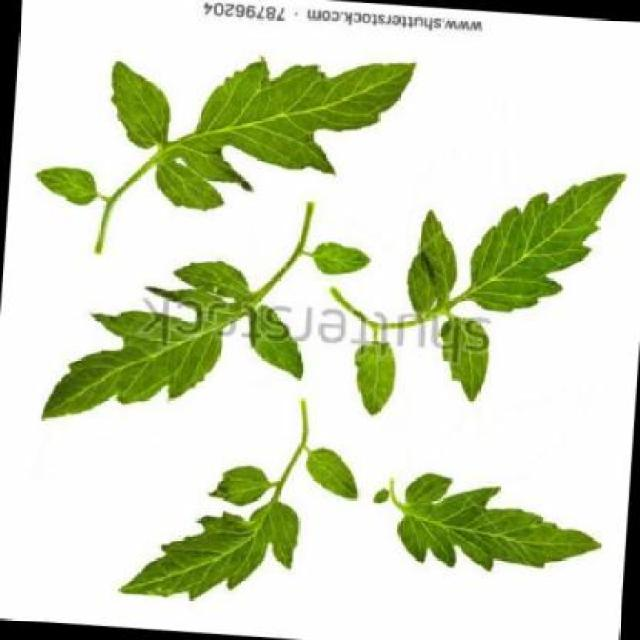Healthy Leaf: (8, 12, 424, 238), (337, 151, 625, 438), (49, 198, 317, 448), (103, 400, 365, 632), (355, 452, 617, 591)
